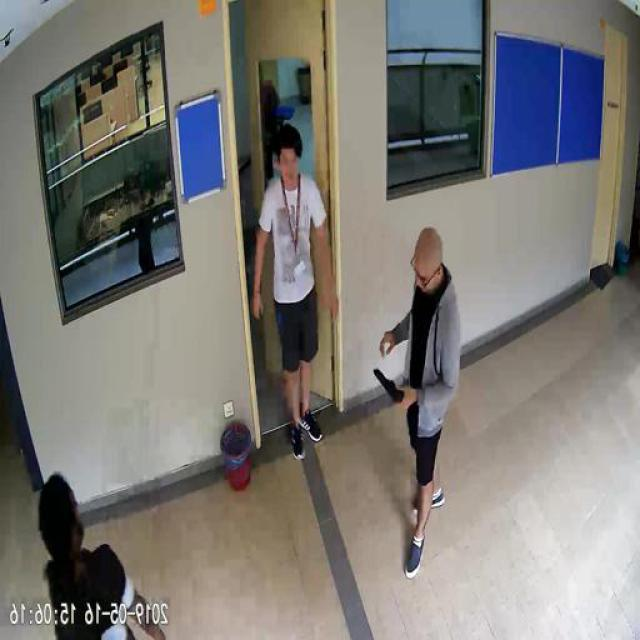Gun: (376, 366, 410, 409)
